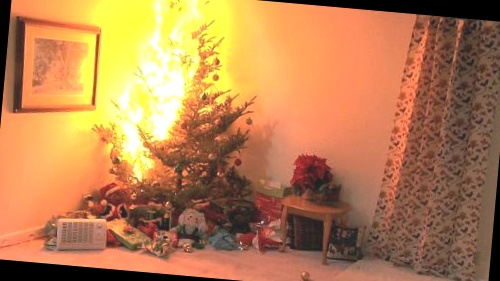fire: (101, 0, 189, 135)
